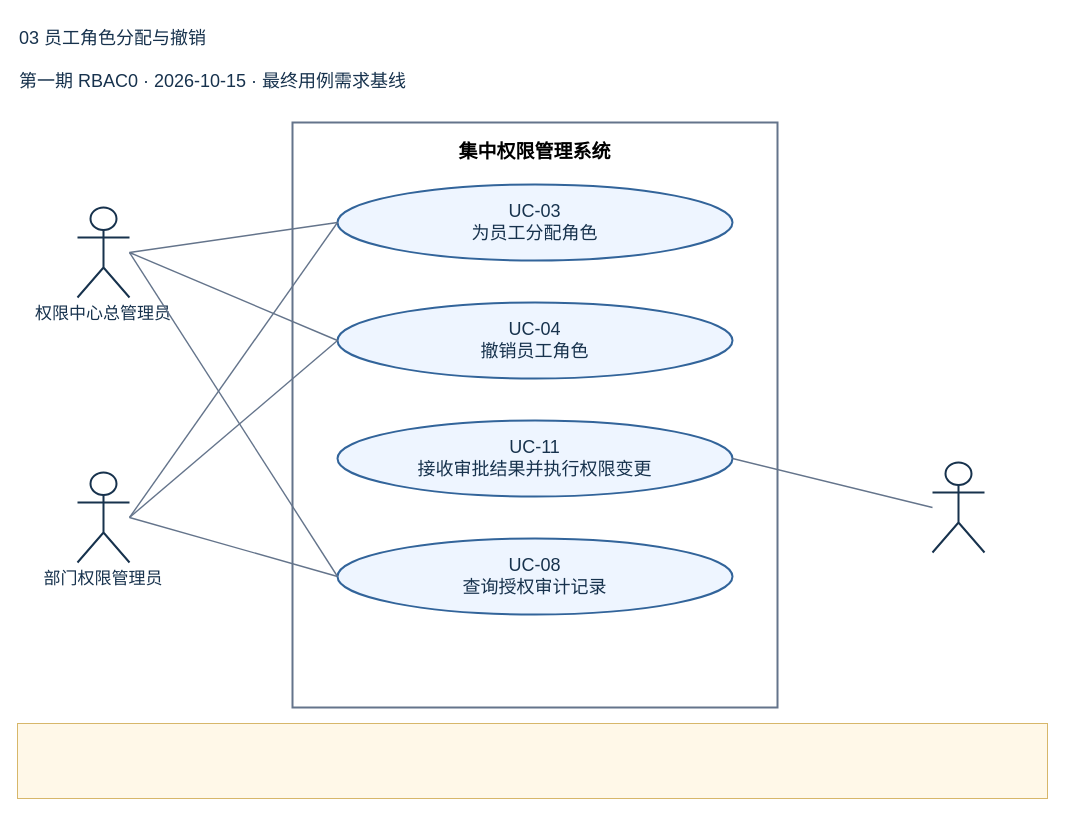
Image size: 1065x816. Some labels were removed from this diagram. Here are the shapes that lost their labels. From the top down, the centre of each, then its label:
At pixel 958 507: "OA 协同办公系统".
At pixel 532 760: "一般分配/撤销经 OA；离岗关闭明确来源部门立即生效，其他来源保留。 新部门需新授权；来源周期拒绝旧批准，恢复员工不自动复权。".
